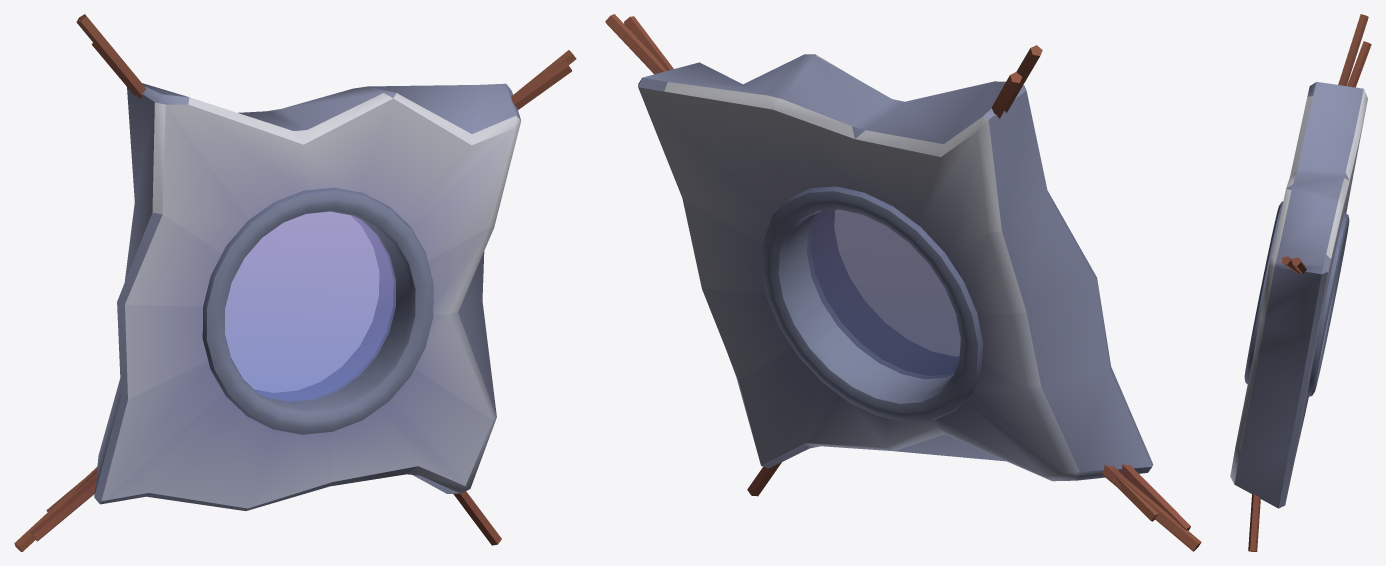
The model's file is hub_ruin_debris_b.glb.
3 renders of one model, left to right at view 1: azimuth 30°, elevation 25°; view 2: azimuth 150°, elevation 25°; view 3: azimuth 270°, elevation 25°, orthographic. The views are drawn at different scales.
Visible parts, largest first — view 1: hub_ruin_debris_b; view 2: hub_ruin_debris_b; view 3: hub_ruin_debris_b.
Boxes of the visible parts, box(x1,y1,x2,y2) form: hub_ruin_debris_b: box(14, 14, 576, 551); hub_ruin_debris_b: box(605, 14, 1201, 551); hub_ruin_debris_b: box(1230, 14, 1371, 551).
Bounding box in the file's own units: 4.04 × 3.86 × 1.19.
